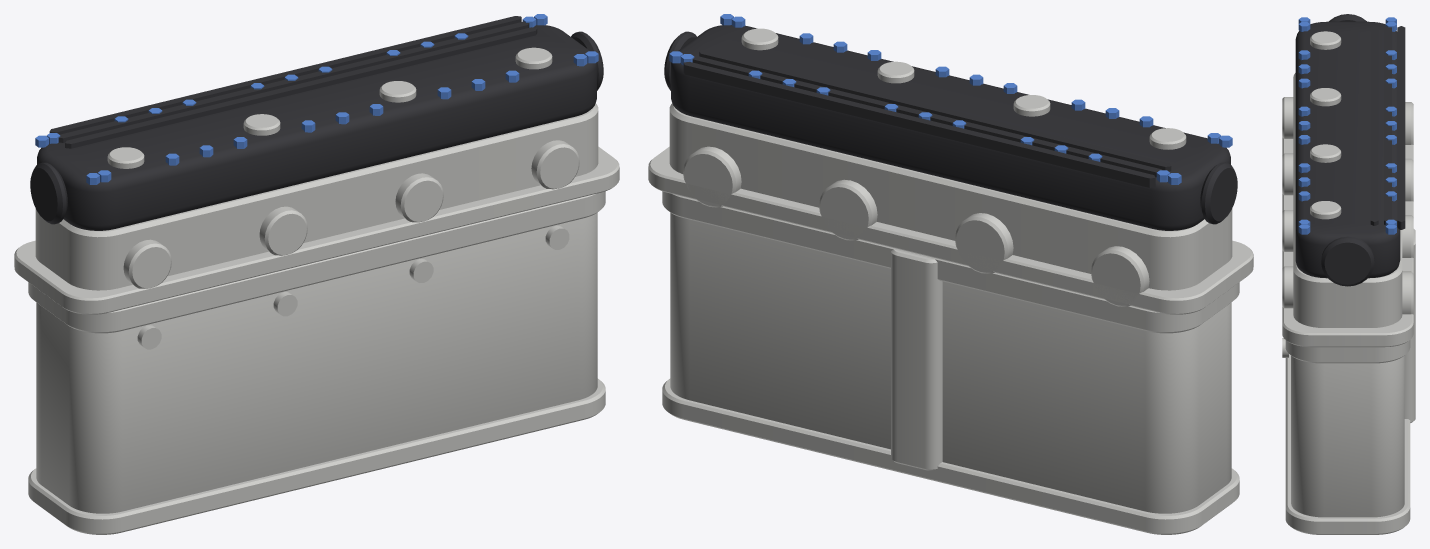
The model's file is race_high_comp.glb.
The picture shows the model from 3 angles, left to right: view 1: azimuth 30°, elevation 25°; view 2: azimuth 150°, elevation 25°; view 3: azimuth 270°, elevation 25°; orthographic projection. The views are drawn at different scales.
Visible parts, largest first — view 1: lod0; view 2: lod0; view 3: lod0.
Part boxes in pixels (left/top/right/bottom): lod0: left=14, top=14, right=619, bottom=534; lod0: left=648, top=14, right=1253, bottom=534; lod0: left=1282, top=14, right=1415, bottom=534.
Size of what is drawn, in the model's own units: 0.488 by 0.3 by 0.12.
